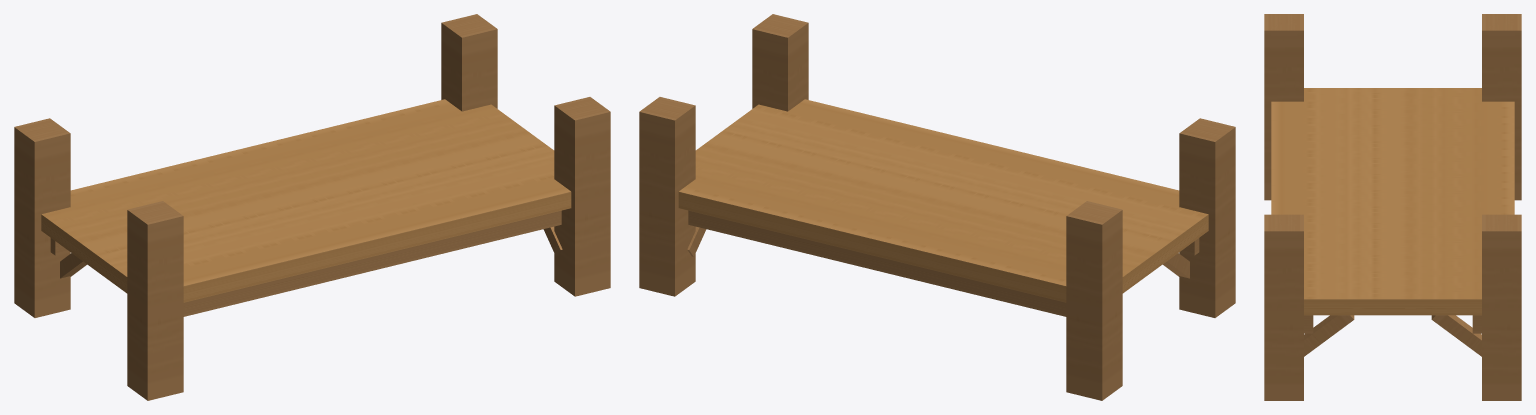
The model's file is dock.glb.
3 renders of one model, left to right at view 1: azimuth 30°, elevation 25°; view 2: azimuth 150°, elevation 25°; view 3: azimuth 270°, elevation 25°, orthographic. The views are drawn at different scales.
Parts seen in each view (by area): view 1: beach_dock; view 2: beach_dock; view 3: beach_dock.
Part boxes in pixels (left/top/right/bottom): beach_dock: left=14, top=14, right=610, bottom=400; beach_dock: left=639, top=14, right=1235, bottom=400; beach_dock: left=1264, top=14, right=1521, bottom=400.
Bounding box in the file's own units: 4.4 × 1.6 × 2.2.
Materials: 1 (1 with a texture image).
